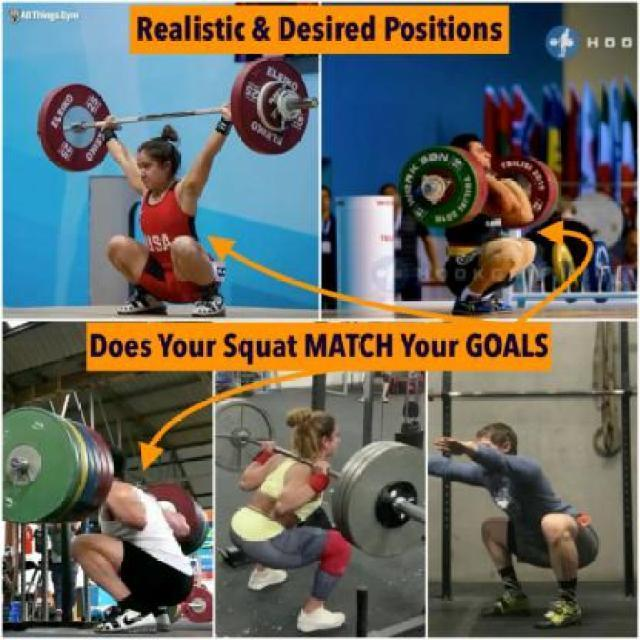barbell: (29, 74, 123, 180), (230, 56, 319, 159), (393, 142, 487, 238)
